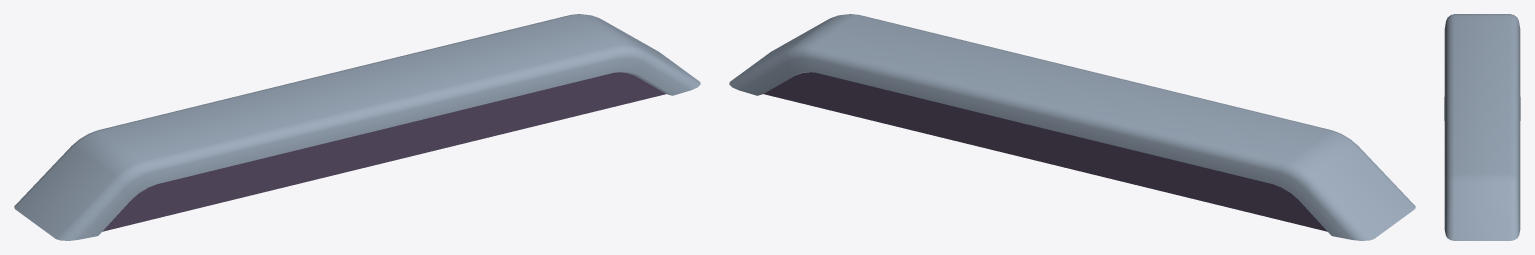
The model's file is RoadSideDecor01.fbx.
The picture shows the model from 3 angles, left to right: view 1: azimuth 30°, elevation 25°; view 2: azimuth 150°, elevation 25°; view 3: azimuth 270°, elevation 25°; orthographic projection. The views are drawn at different scales.
Parts seen in each view (by area): view 1: RoadSideDecor_LOD0; view 2: RoadSideDecor_LOD0; view 3: RoadSideDecor_LOD0.
Part boxes in pixels (x1,y1,x2,y2): RoadSideDecor_LOD0: (14, 14, 700, 240); RoadSideDecor_LOD0: (729, 14, 1415, 240); RoadSideDecor_LOD0: (1444, 14, 1520, 240).
Size of what is drawn, in the model's own units: 437 by 36.98 by 65.71.
